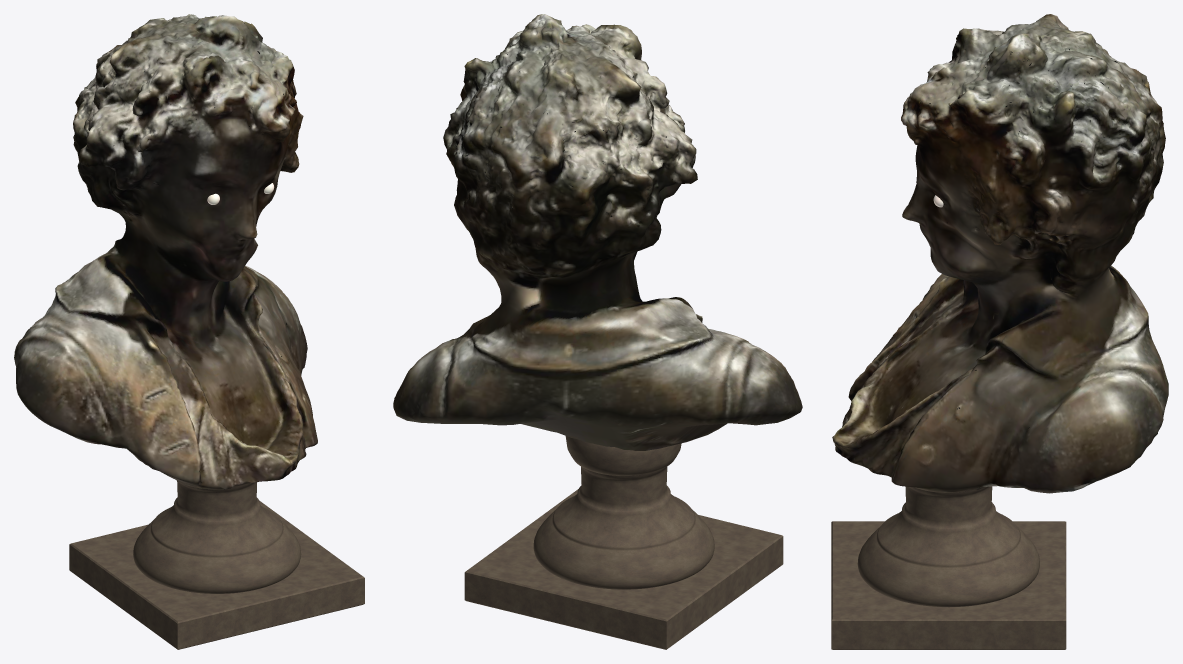
Rendered from shelley-bust.glb.
3 views of the same model, side by side, from view 1: azimuth 30°, elevation 25°; view 2: azimuth 150°, elevation 25°; view 3: azimuth 270°, elevation 25° (orthographic). The views are drawn at different scales.
Parts seen in each view (by area): view 1: Percy Bysshe Shelley bust; view 2: Percy Bysshe Shelley bust; view 3: Percy Bysshe Shelley bust.
Part boxes in pixels (<box>): Percy Bysshe Shelley bust: <box>14,14,364,649</box>; Percy Bysshe Shelley bust: <box>393,14,802,649</box>; Percy Bysshe Shelley bust: <box>831,14,1168,649</box>.
Size of the model in its own units: 0.1847 by 0.2955 by 0.1542.
3 materials, 3 textured.
